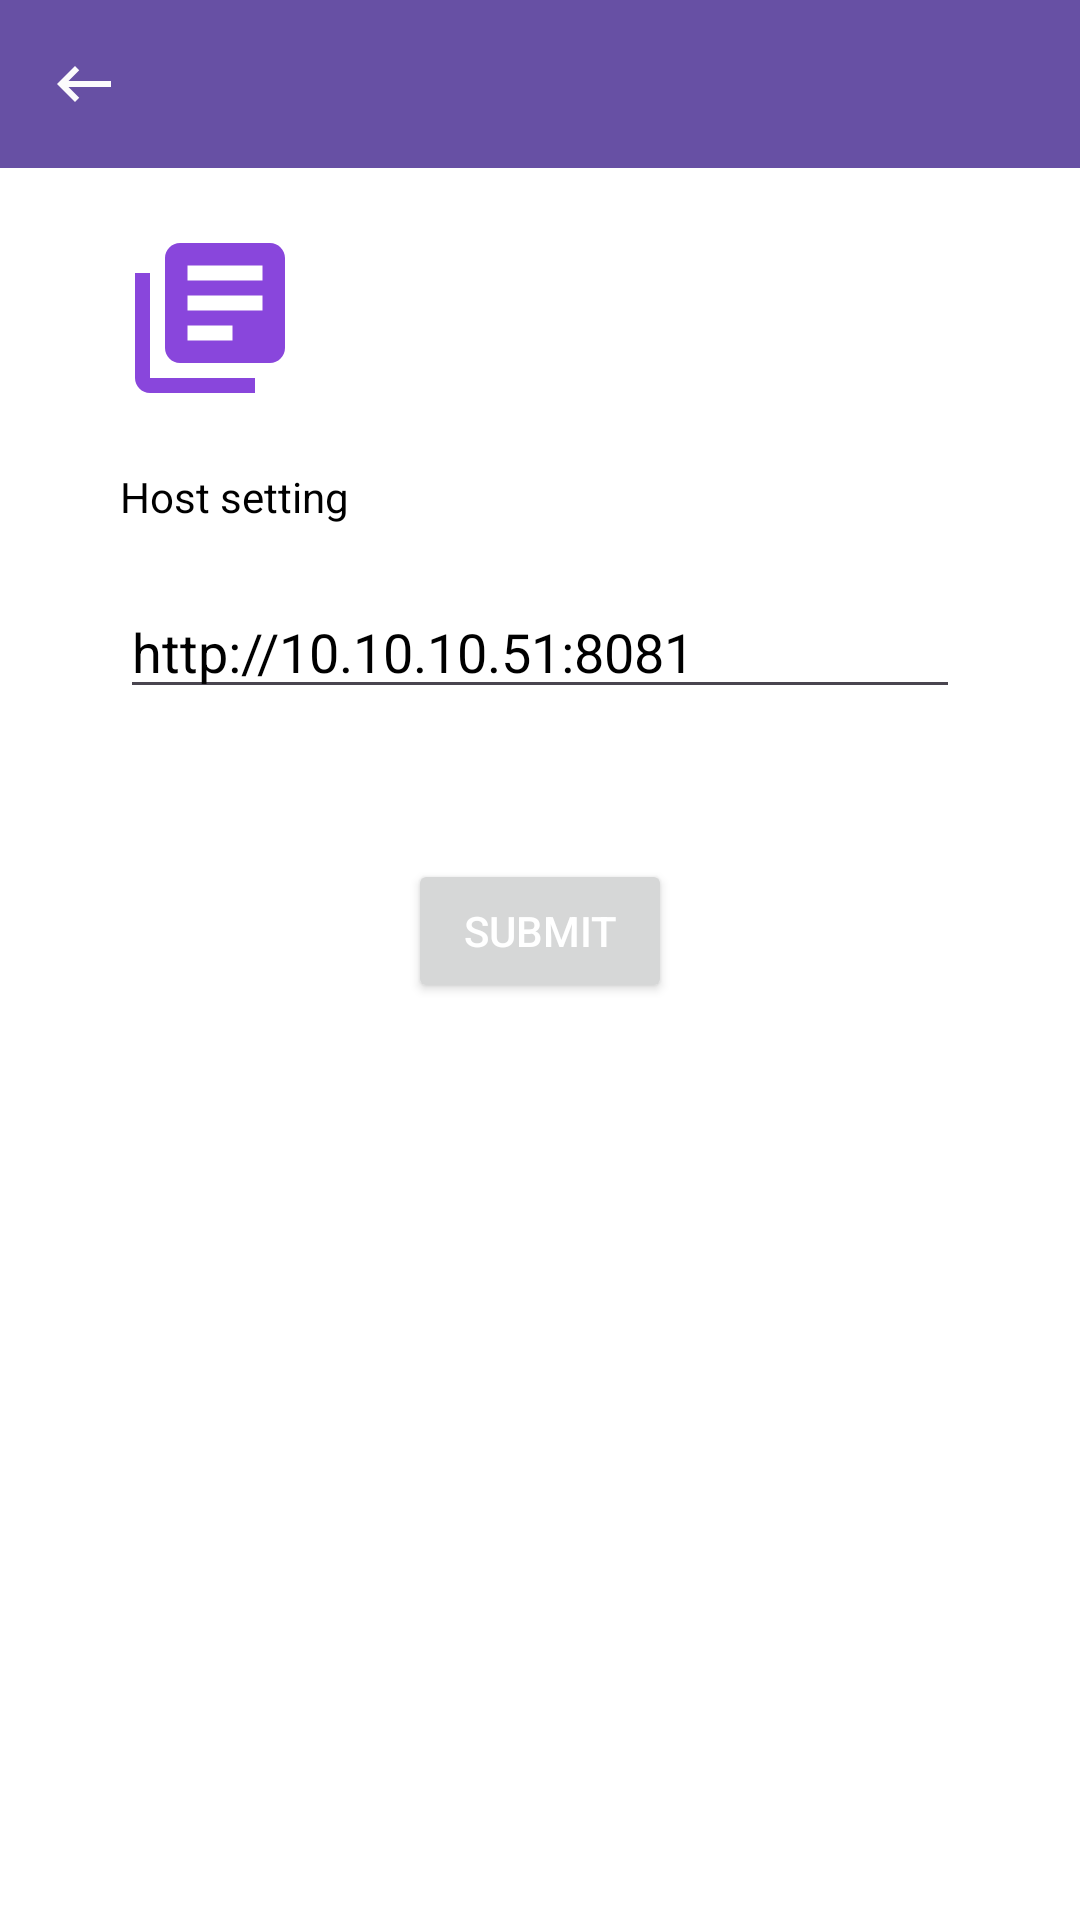

Named icons in this screenshot (1080*1920) and their centers, (x,y):
library books: (210,318)
